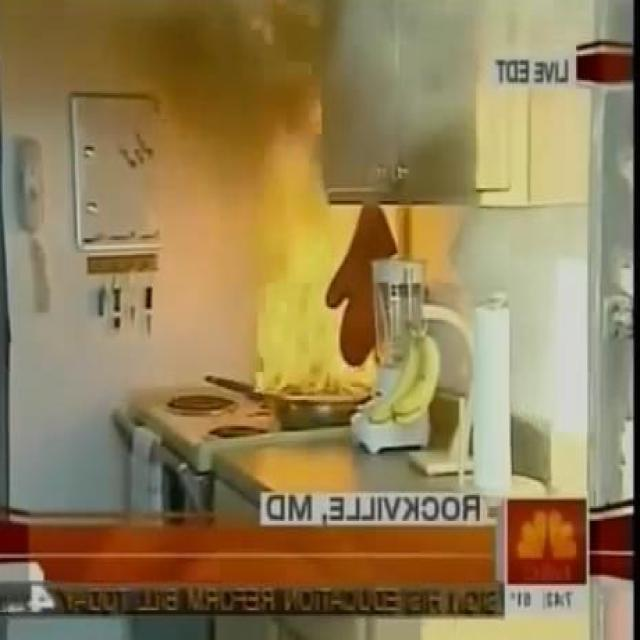fire: (324, 0, 633, 141), (101, 0, 316, 123)
smoke: (251, 112, 393, 402)
